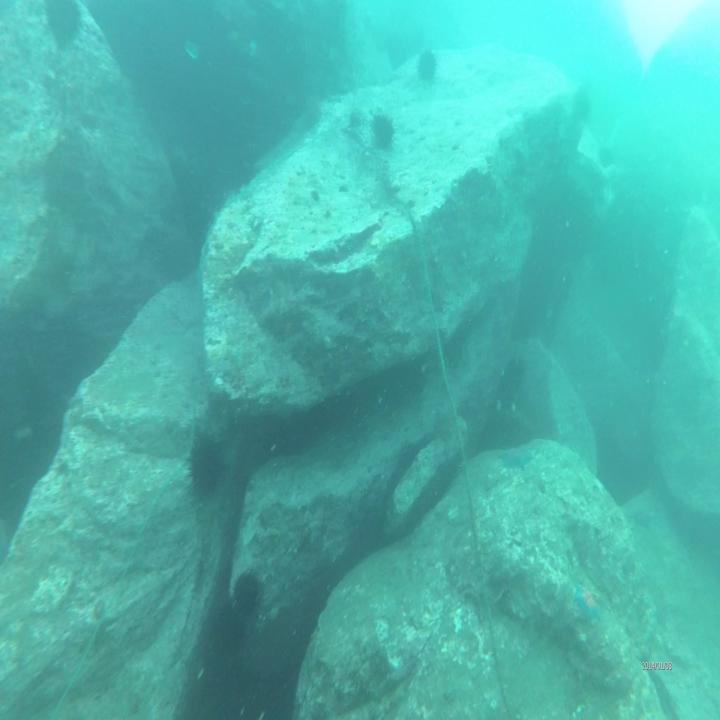echinus: (190, 428, 227, 498), (231, 567, 266, 630), (369, 108, 396, 149), (415, 45, 440, 84)
starfish: (570, 574, 610, 638), (501, 432, 536, 476)
